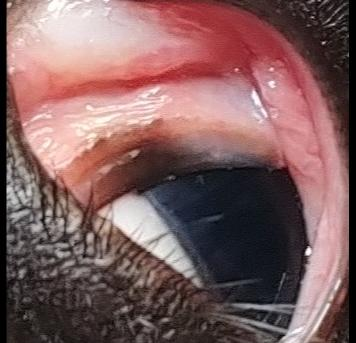eye_membrane: (8, 0, 348, 343)
